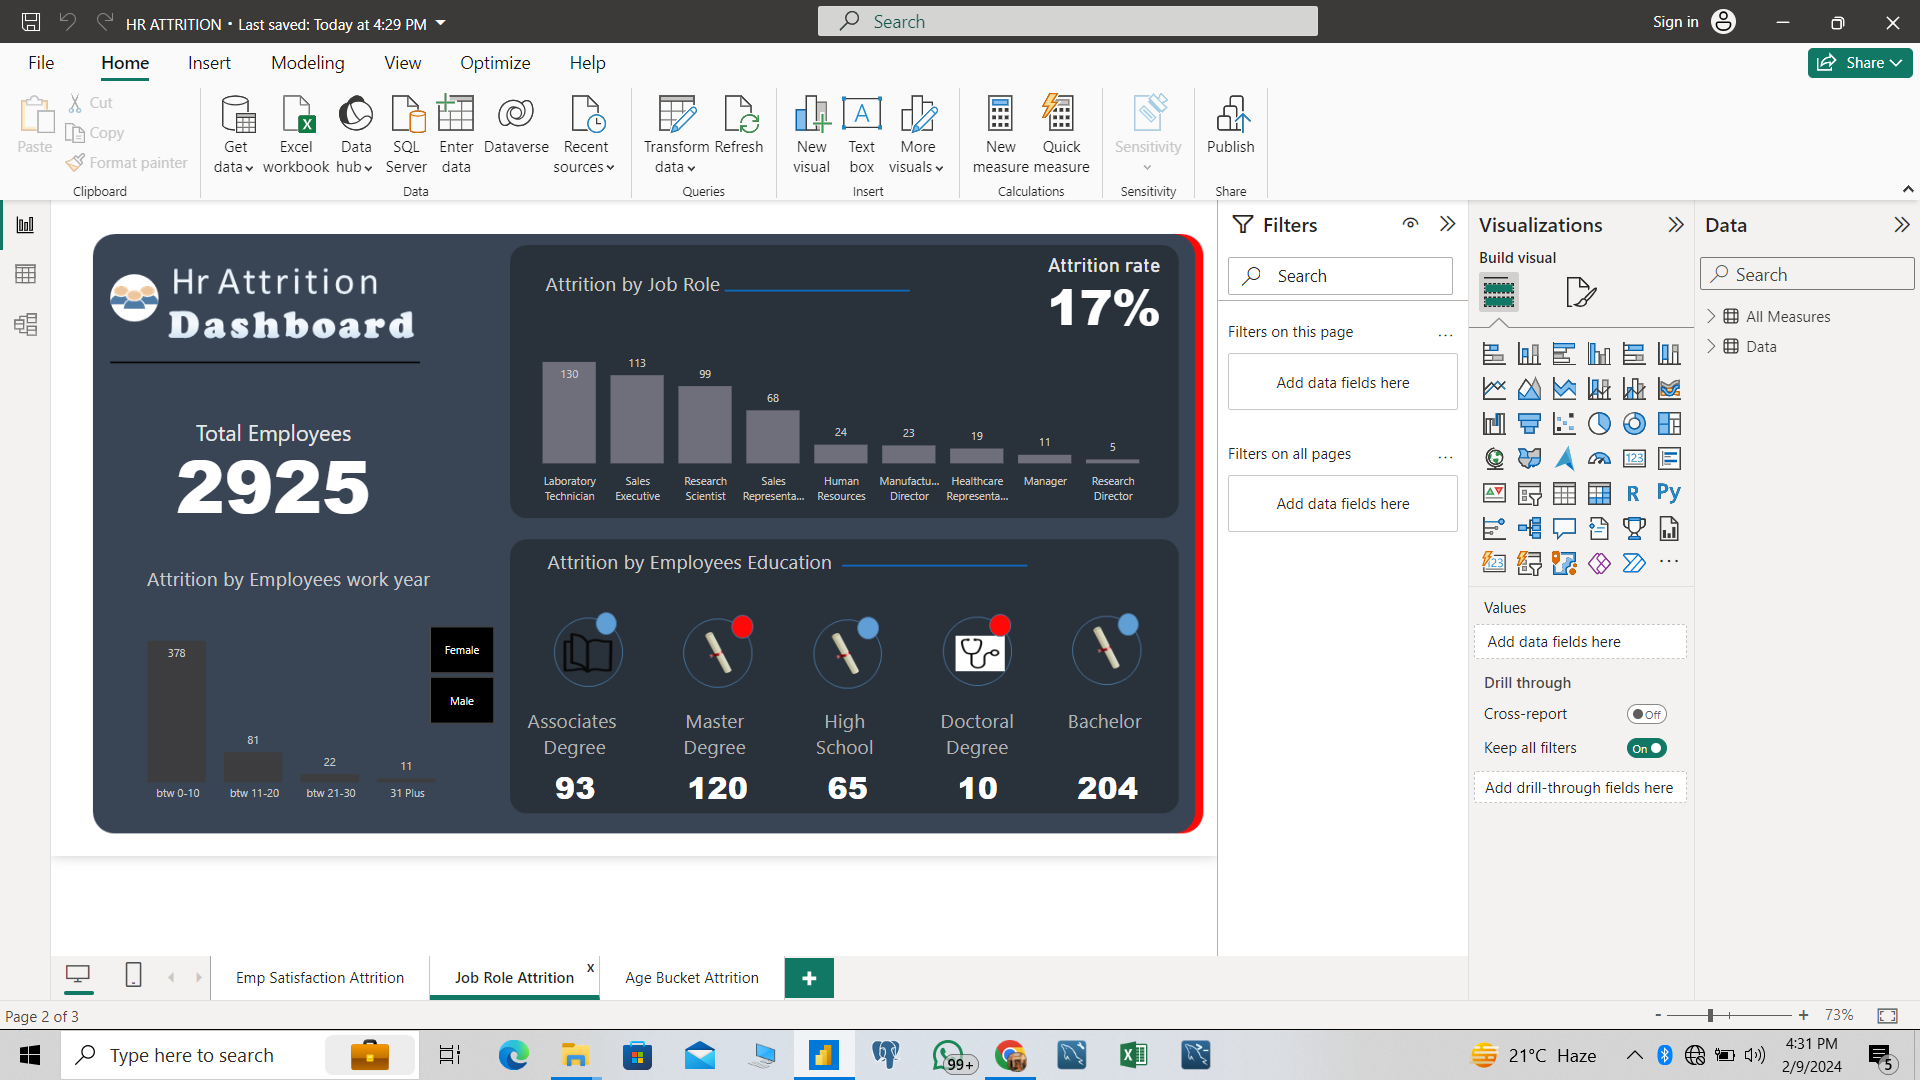

What the dashboard file says about the page in this screenshot:
{"tool":"powerbi","page":{"name":"Job Role Attrition","canvas":[1280,720],"ordinal":1},"visuals":[{"type":"card","fields":{"Values":["All Measures.Total Employees"]},"box":[108.4,255.2,271.7,104.3],"z":0},{"type":"textbox","box":[142.7,234.6,203.1,42.5],"z":1000},{"type":"card","title":"Attrition rate","fields":{"Values":["All Measures.% Attrition"]},"box":[1081.3,59,149.6,87.8],"z":2000},{"type":"columnChart","fields":{"Category":["Data.Job Role"],"Y":["All Measures.Inactive Employee"]},"box":[494,146.8,736.9,193.5],"z":3000},{"type":"textbox","box":[510.5,71.4,256.6,42.5],"z":4000},{"type":"shape","box":[739.6,93.3,203.1,12.3],"z":5000},{"type":"textbox","box":[510.5,551.6,129,68.6],"z":6000},{"type":"textbox","box":[673.8,551.6,109.8,68.6],"z":7000},{"type":"textbox","box":[816.5,551.6,109.8,68.6],"z":8000},{"type":"textbox","box":[961.9,551.6,109.8,68.6],"z":9000},{"type":"textbox","box":[1101.9,551.6,109.8,68.6],"z":10000},{"type":"card","title":"Attrition rate","fields":{"Values":["All Measures.Inactive Employee"]},"box":[524.2,620.2,102.9,49.4],"z":11000},{"type":"card","title":"Attrition rate","fields":{"Values":["All Measures.Inactive Employee"]},"box":[680.6,620.2,102.9,49.4],"z":12000},{"type":"card","title":"Attrition rate","fields":{"Values":["All Measures.Inactive Employee"]},"box":[823.3,620.2,102.9,49.4],"z":13000},{"type":"card","title":"Attrition rate","fields":{"Values":["All Measures.Inactive Employee"]},"box":[966,620.2,102.9,49.4],"z":14000},{"type":"card","title":"Attrition rate","fields":{"Values":["All Measures.Inactive Employee"]},"box":[1108.8,620.2,102.9,49.4],"z":15000},{"type":"columnChart","fields":{"Category":["Data.Working Year Group"],"Y":["All Measures.Inactive Employee"]},"box":[67.2,461.1,396.6,208.6],"z":16000},{"type":"textbox","box":[57.6,395.2,406.2,42.5],"z":17000},{"type":"textbox","box":[502.2,377.4,397.9,42.5],"z":18000},{"type":"shape","box":[868.6,395.2,203.1,12.3],"z":19000},{"type":"slicer","fields":{"Values":["Data.Gender"]},"box":[389.7,461.1,120.8,120.8],"z":20000}]}

Visuals, with their boxes on the page's 1280x720 design canvas (x1, y1, x2, y2). These are canvas units, not pixel positions in the 1920x1080 screenshot, which may show the page scaled, cropped or inside an application window:
card - All Measures.Total Employees: pyautogui.locateOnScreen(108, 255, 380, 360)
textbox: pyautogui.locateOnScreen(143, 235, 346, 277)
"Attrition rate" card: pyautogui.locateOnScreen(1081, 59, 1231, 147)
columnChart - Data.Job Role x All Measures.Inactive Employee: pyautogui.locateOnScreen(494, 147, 1231, 340)
textbox: pyautogui.locateOnScreen(510, 71, 767, 114)
shape: pyautogui.locateOnScreen(740, 93, 943, 106)
textbox: pyautogui.locateOnScreen(510, 552, 640, 620)
textbox: pyautogui.locateOnScreen(674, 552, 784, 620)
textbox: pyautogui.locateOnScreen(816, 552, 926, 620)
textbox: pyautogui.locateOnScreen(962, 552, 1072, 620)
textbox: pyautogui.locateOnScreen(1102, 552, 1212, 620)
"Attrition rate" card: pyautogui.locateOnScreen(524, 620, 627, 670)
"Attrition rate" card: pyautogui.locateOnScreen(681, 620, 784, 670)
"Attrition rate" card: pyautogui.locateOnScreen(823, 620, 926, 670)
"Attrition rate" card: pyautogui.locateOnScreen(966, 620, 1069, 670)
"Attrition rate" card: pyautogui.locateOnScreen(1109, 620, 1212, 670)
columnChart - Data.Working Year Group x All Measures.Inactive Employee: pyautogui.locateOnScreen(67, 461, 464, 670)
textbox: pyautogui.locateOnScreen(58, 395, 464, 438)
textbox: pyautogui.locateOnScreen(502, 377, 900, 420)
shape: pyautogui.locateOnScreen(869, 395, 1072, 408)
slicer - Data.Gender: pyautogui.locateOnScreen(390, 461, 510, 582)
